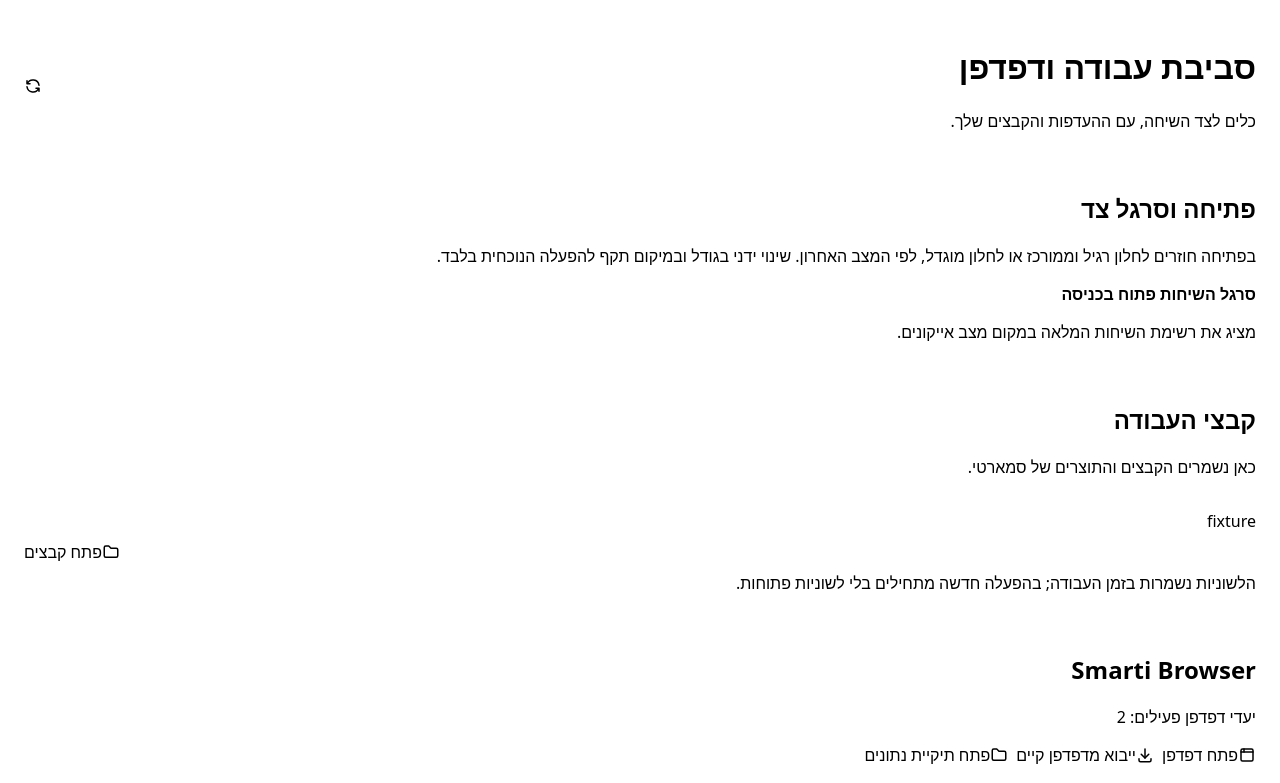
renders Rust tab arrays, including zero, and refreshes without NaN
Expected: the text "יעדי דפדפן פעילים: 2" is shown, [1117, 706, 1256, 728]
Click the button named "רענן": coordinates (33, 86) [24, 77, 42, 95]
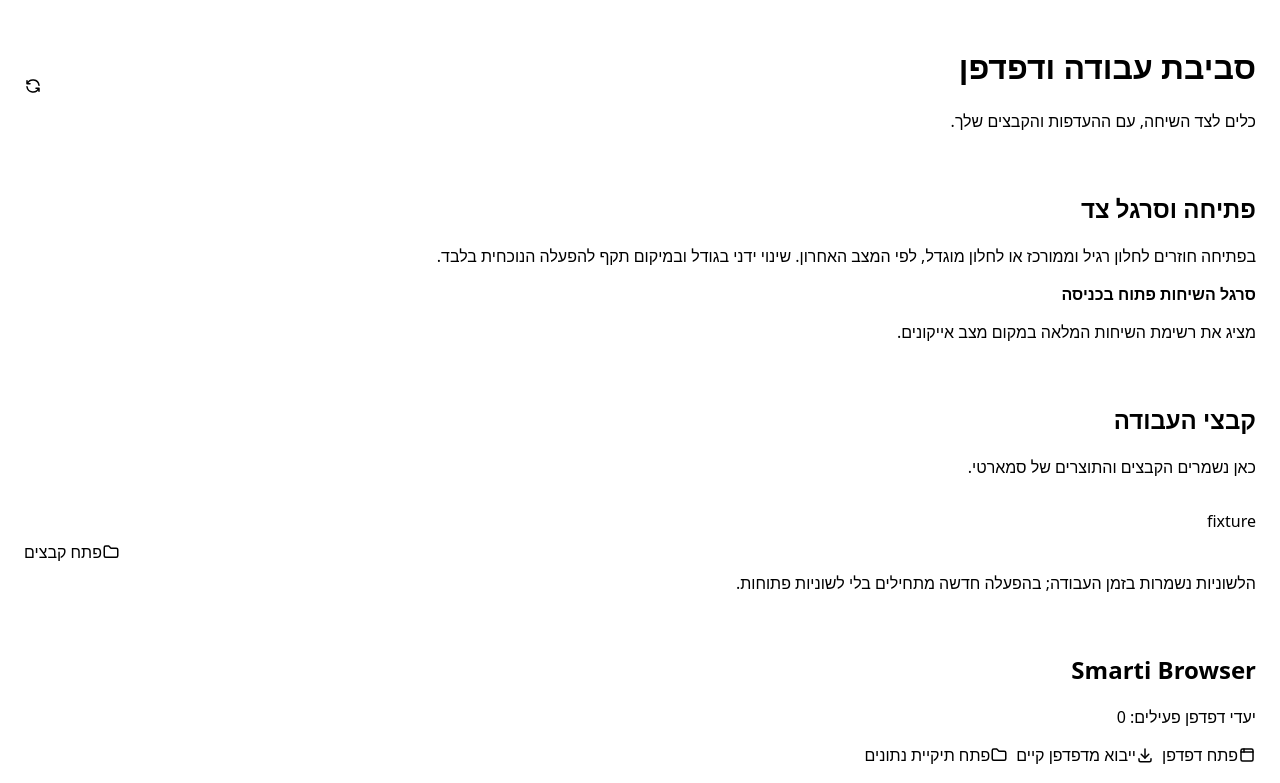
Result: the text "יעדי דפדפן פעילים: 0" is shown at [1117, 706, 1256, 728]
